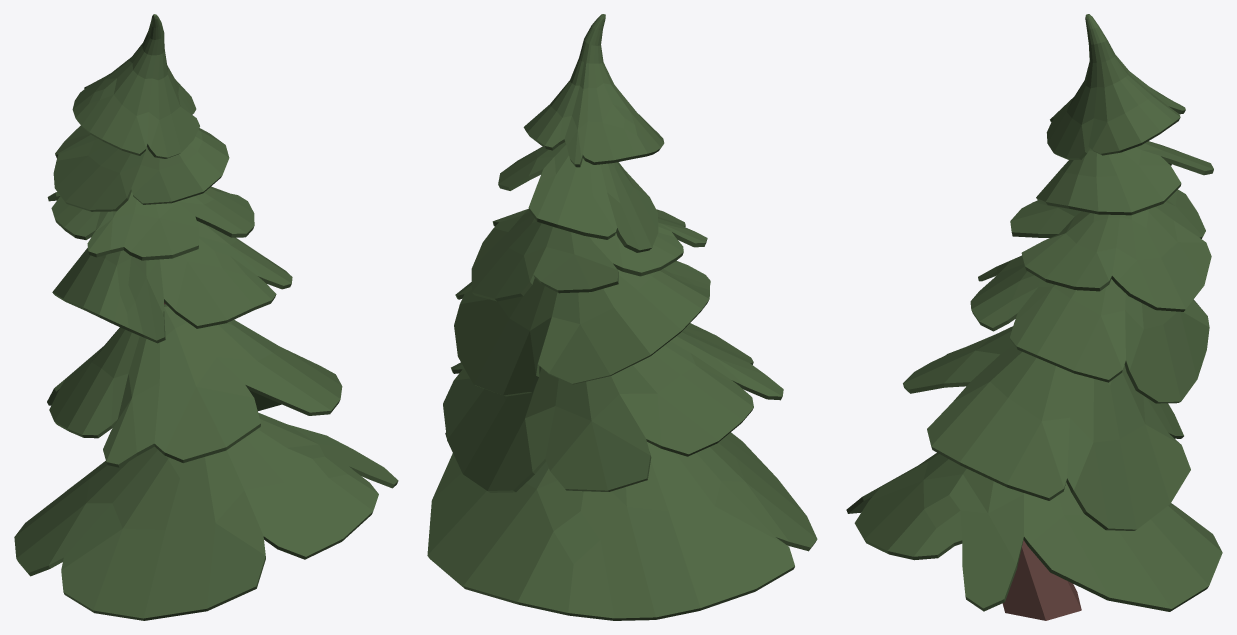
File: PineTree_3.glb
3 views of the same model, side by side, from view 1: azimuth 30°, elevation 25°; view 2: azimuth 150°, elevation 25°; view 3: azimuth 270°, elevation 25° (orthographic). The views are drawn at different scales.
Visible parts, largest first — view 1: PineTree_3; view 2: PineTree_3; view 3: PineTree_3.
Boxes of the visible parts, x1,y1,x2,y2 form: PineTree_3: [14, 14, 398, 620]; PineTree_3: [427, 14, 817, 620]; PineTree_3: [846, 14, 1222, 620].
Bounding box in the file's own units: 2.16 × 3.3 × 1.95.
